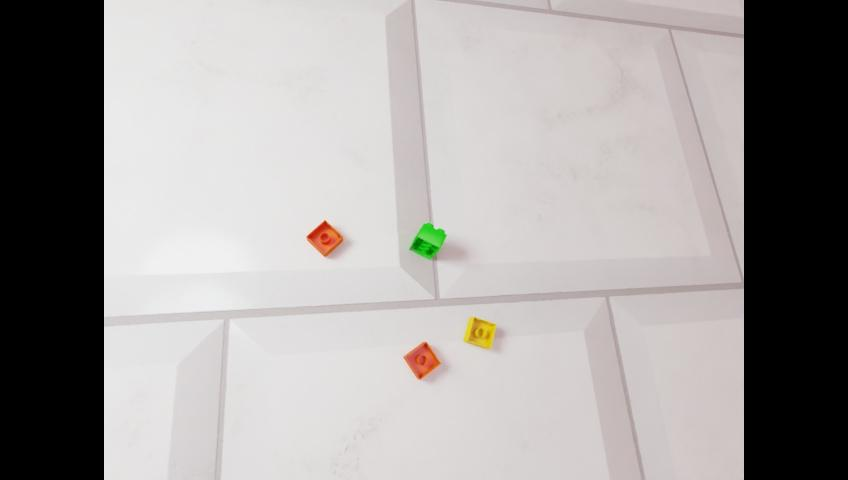2x2_orange: (305, 219, 342, 257), (403, 341, 440, 379)
2x2_yellow: (463, 316, 495, 348)
4x2_green: (409, 222, 446, 259)
